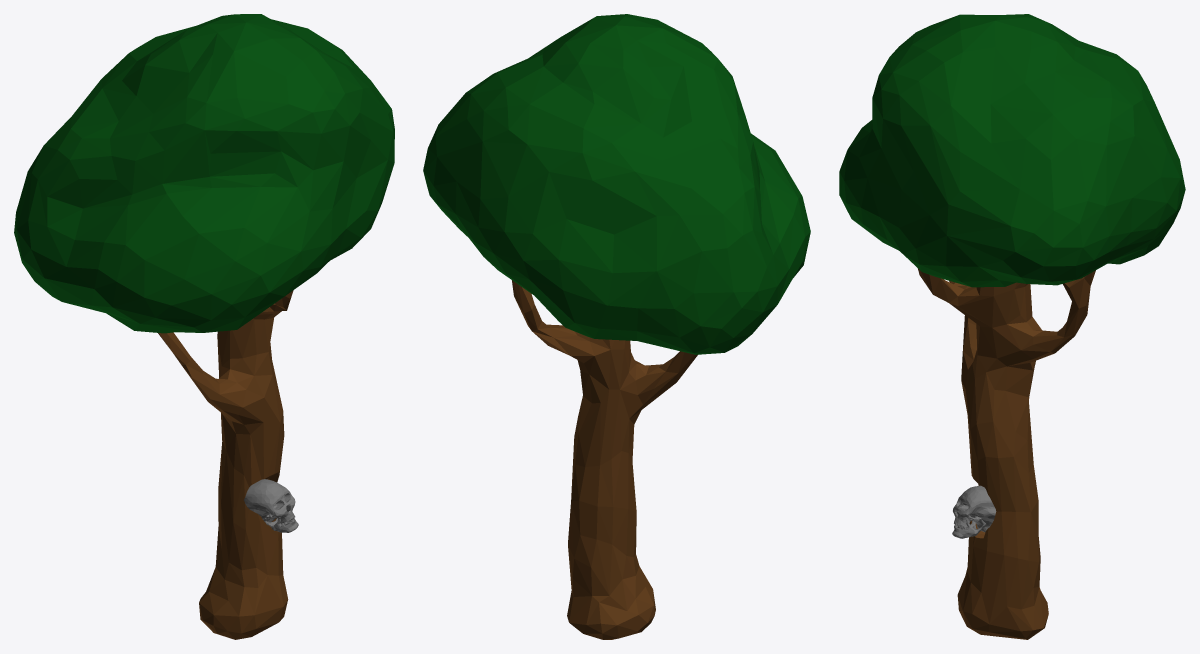
File: Koljupuu2.fbx
The picture shows the model from 3 angles, left to right: view 1: azimuth 30°, elevation 25°; view 2: azimuth 150°, elevation 25°; view 3: azimuth 270°, elevation 25°; orthographic projection.
Parts seen in each view (by area): view 1: Cube; view 2: Cube; view 3: Cube.
Boxes of the visible parts, x1=… form: Cube: x1=14, y1=14, x2=394, y2=639; Cube: x1=423, y1=14, x2=810, y2=639; Cube: x1=839, y1=14, x2=1185, y2=639.
Bounding box in the file's own units: 6161 × 10222 × 5244.
